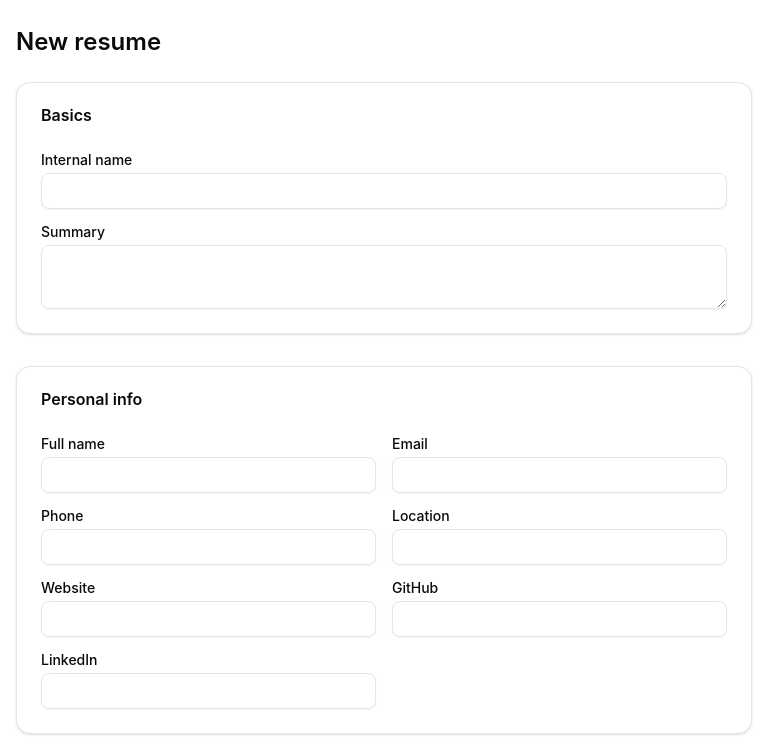
Test: AdminResumeEditorPage › starts blank in create mode and posts a create request on submit
Expected: the heading "New resume" is shown, [16,27,161,56]
In the field labelled "Internal name": (384, 191) [41,173,727,209], type "My resume"
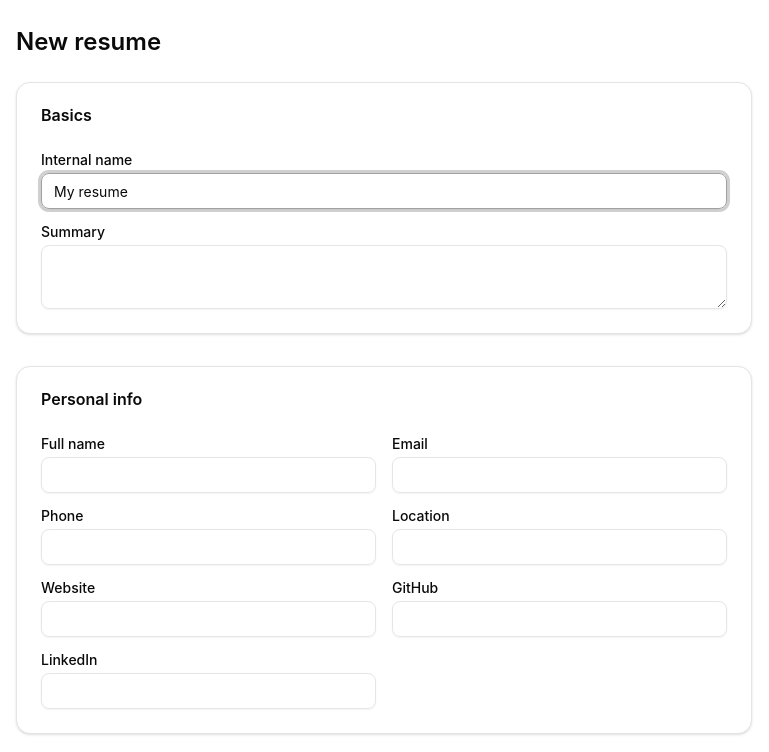
In the field labelled "Full name": (208, 475) [41,457,376,493], type "Ada Lovelace"
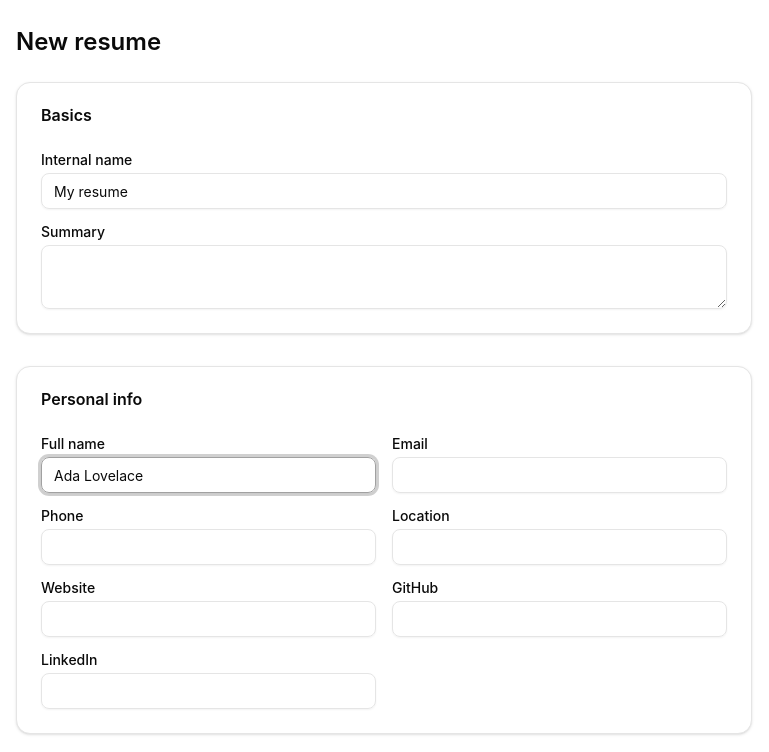
In the field labelled "Email": (560, 475) [392,457,727,493], type "ada@example.com"
(page scrolled)
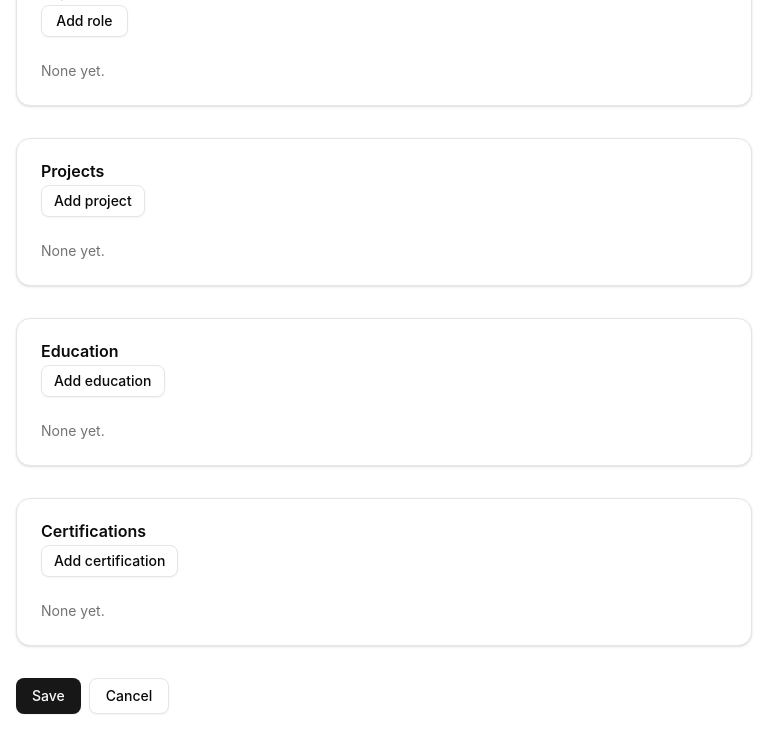
Click the button "Save": (48, 696) [16,678,81,714]
(page scrolled)
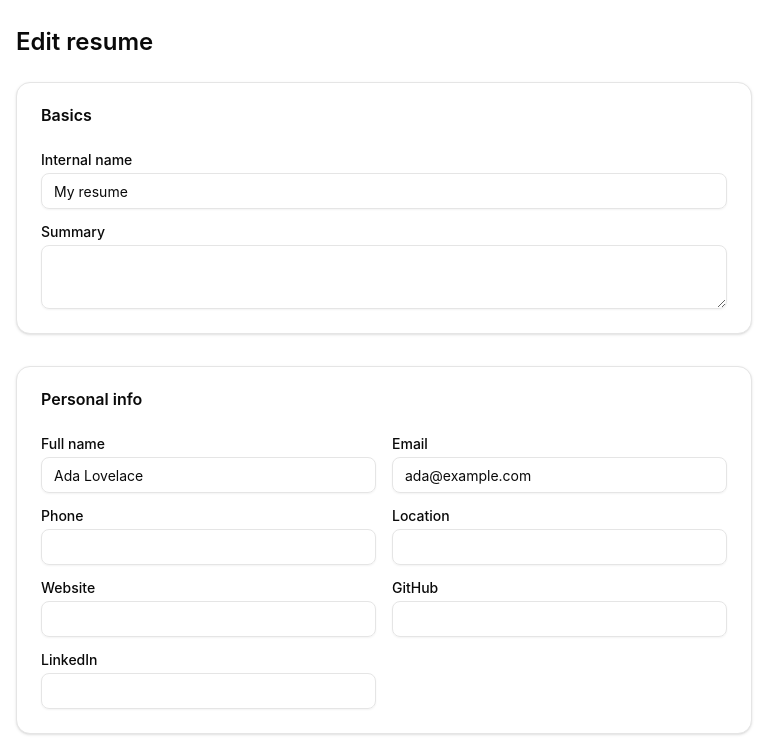
Expected: the heading "Edit resume" is shown, [16,27,153,56]
